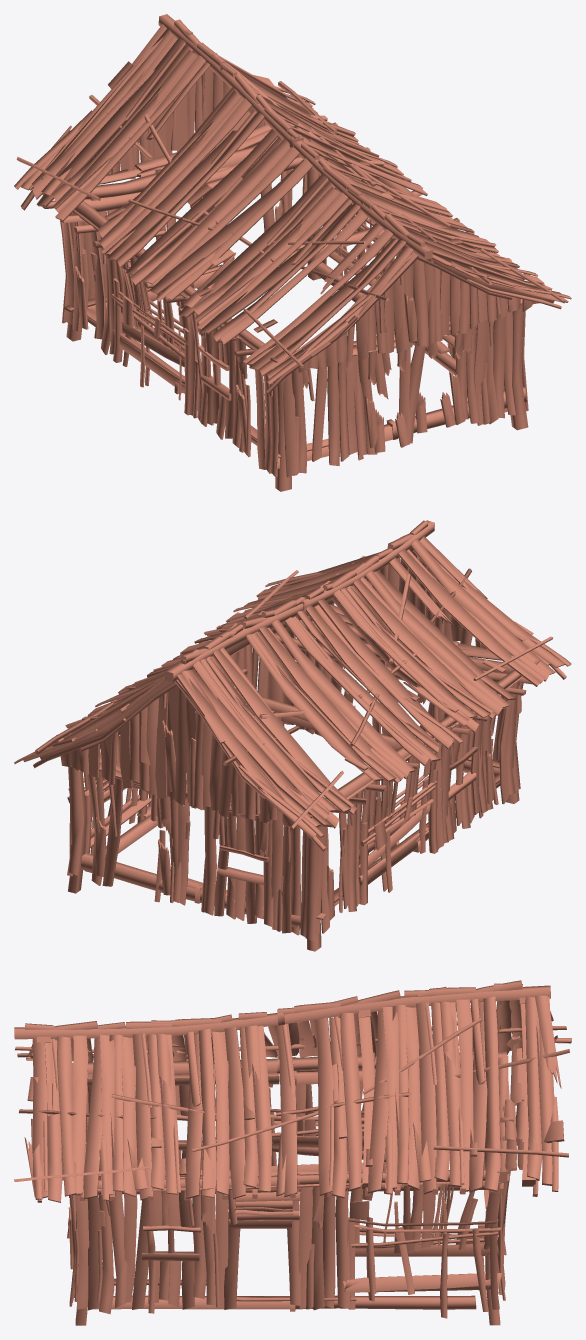
File: house_09.fbx
The picture shows the model from 3 angles, top to bottom: view 1: azimuth 30°, elevation 25°; view 2: azimuth 150°, elevation 25°; view 3: azimuth 270°, elevation 25°; orthographic projection. The views are drawn at different scales.
Parts seen in each view (by area): view 1: Plane.027; view 2: Plane.027; view 3: Plane.027.
Boxes of the visible parts, x1=… form: Plane.027: x1=14, y1=14, x2=571, y2=491; Plane.027: x1=14, y1=520, x2=571, y2=951; Plane.027: x1=14, y1=980, x2=571, y2=1325.
Size of the model in its own units: 9.25 by 8.07 by 14.43.
